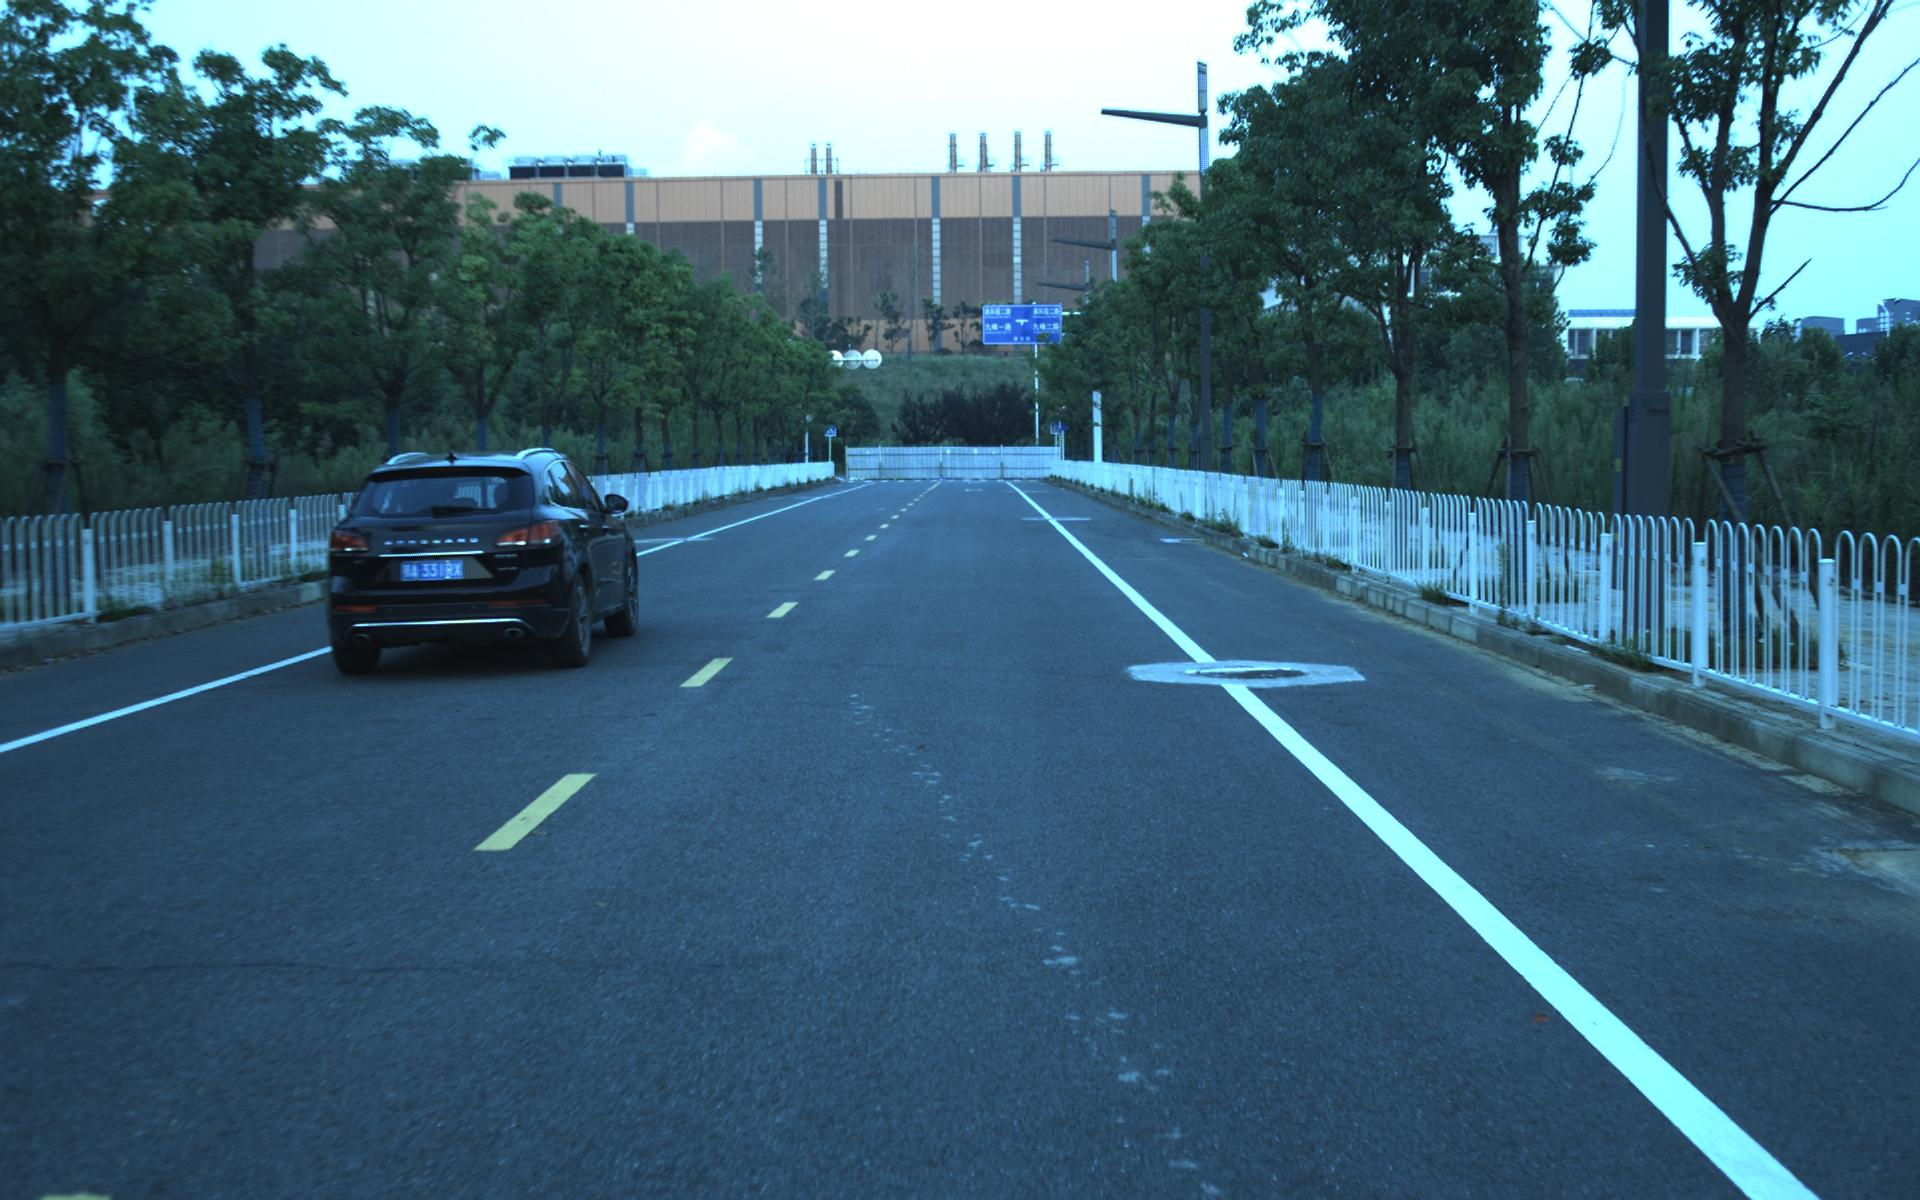Car: (310, 441, 646, 677)
